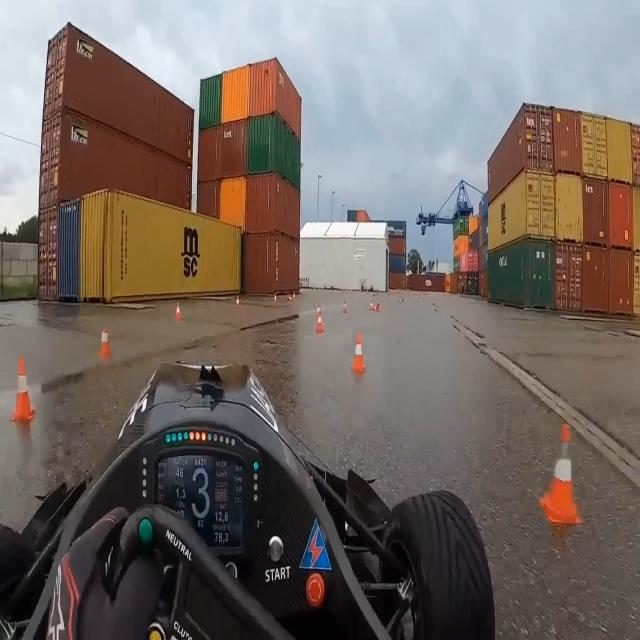Orange cone: (531, 395, 590, 552), (6, 337, 50, 436), (349, 317, 375, 388), (89, 314, 119, 374), (308, 297, 334, 346), (283, 280, 302, 316), (171, 293, 191, 325), (364, 290, 384, 316), (228, 290, 244, 312), (338, 300, 354, 318), (268, 283, 278, 306)
